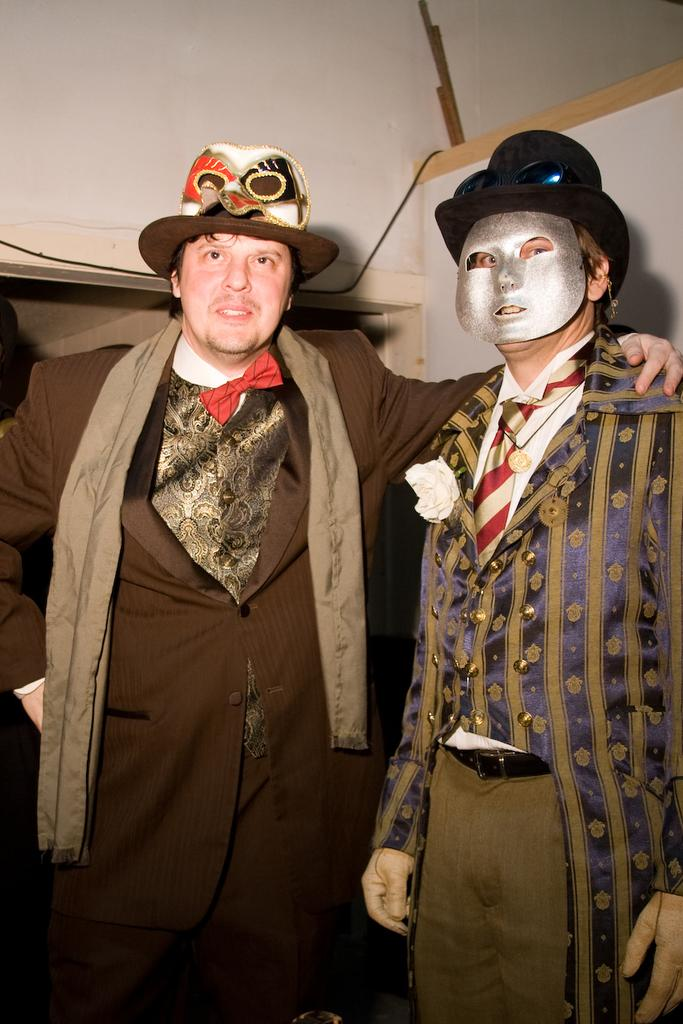Hat: (433, 126, 629, 304), (136, 134, 343, 284)
